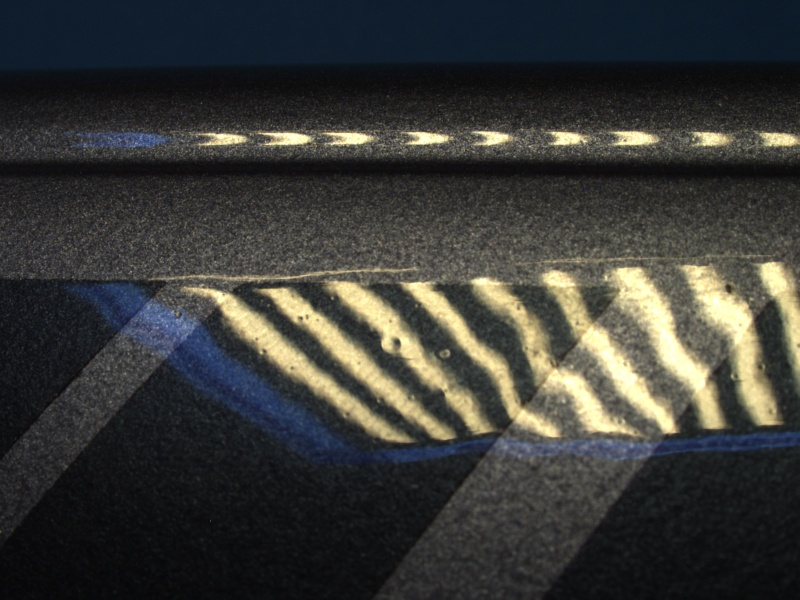bad: (376, 329, 406, 361), (430, 341, 459, 371)
